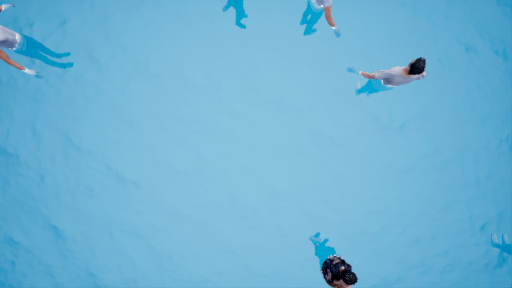person: (1, 5, 83, 85), (351, 58, 427, 106), (306, 233, 361, 288)
